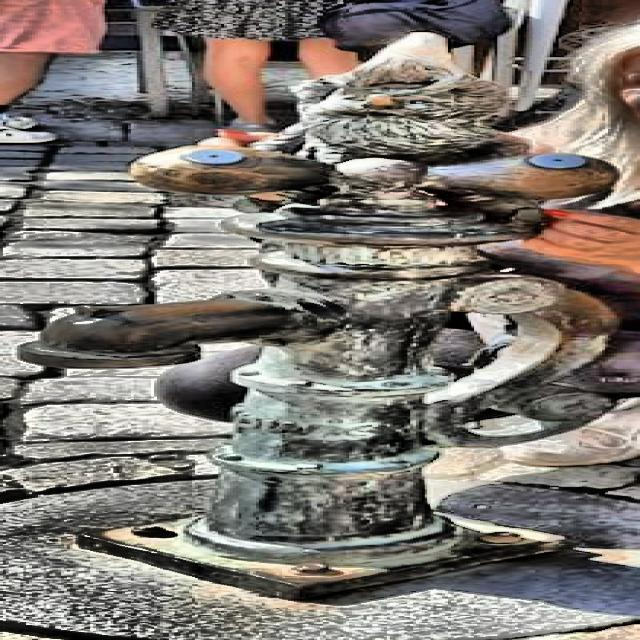Orzezwiacz: (17, 33, 620, 566)
